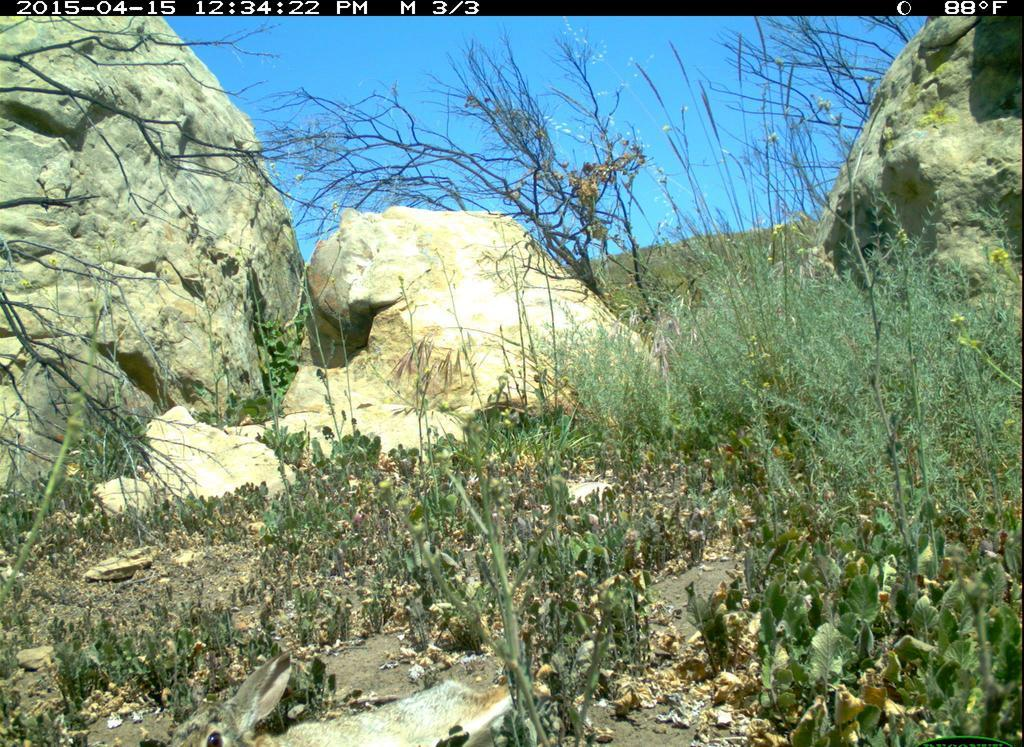rabbit: (159, 648, 523, 745)
